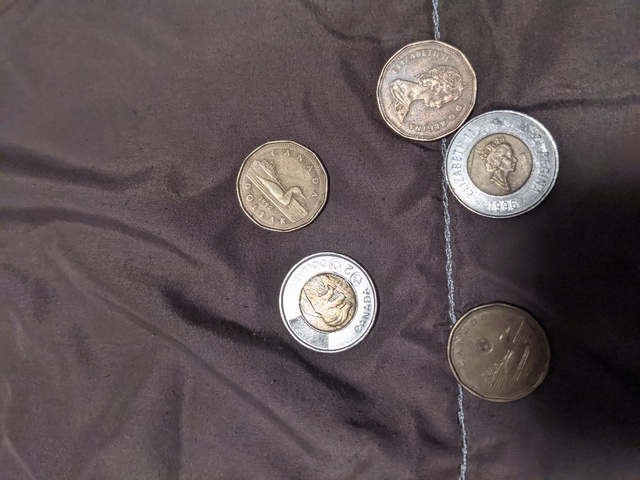loonie: (438, 283, 550, 405), (367, 38, 485, 139), (226, 139, 332, 231)
twonie: (438, 109, 563, 223), (285, 262, 376, 356)
